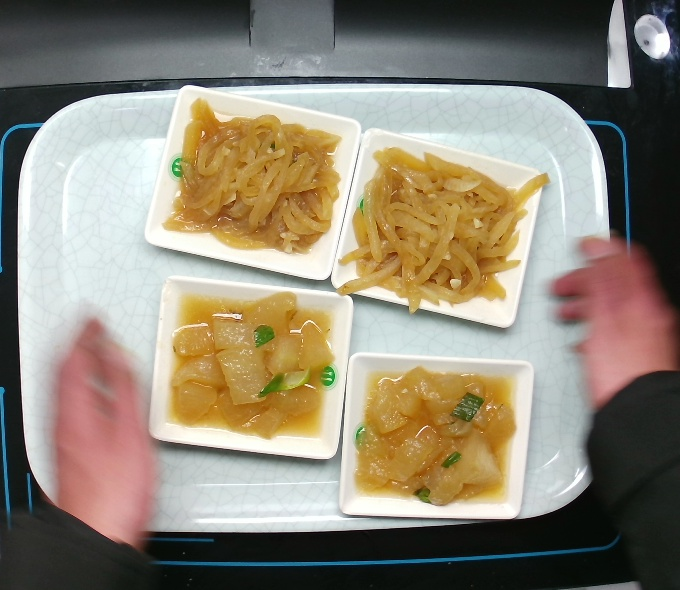wcq-DongGua: (165, 286, 338, 444), (351, 362, 523, 506)
wcq-LuoBoSi: (333, 142, 554, 319), (157, 94, 345, 258)
